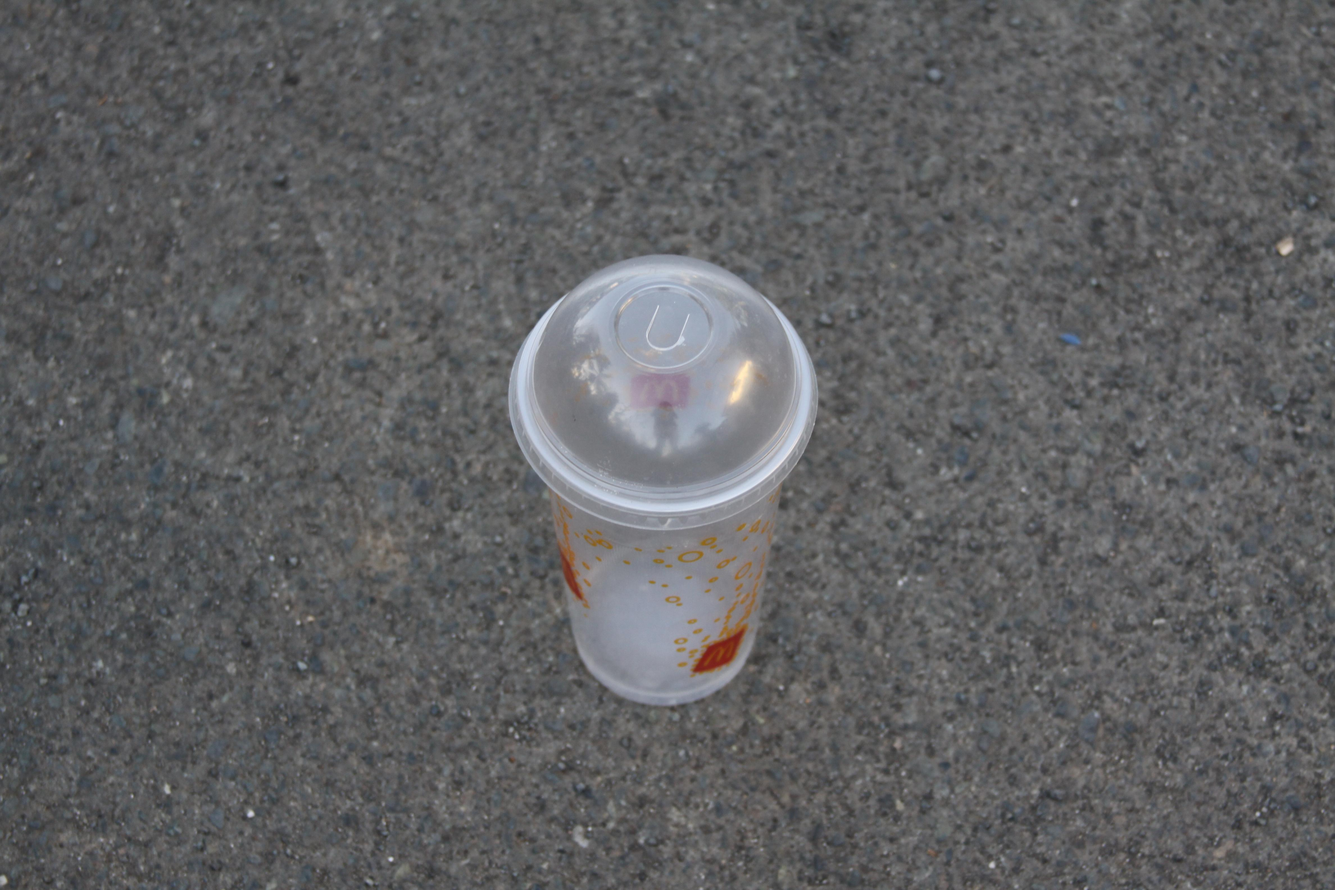Plastic: (506, 251, 821, 709)
